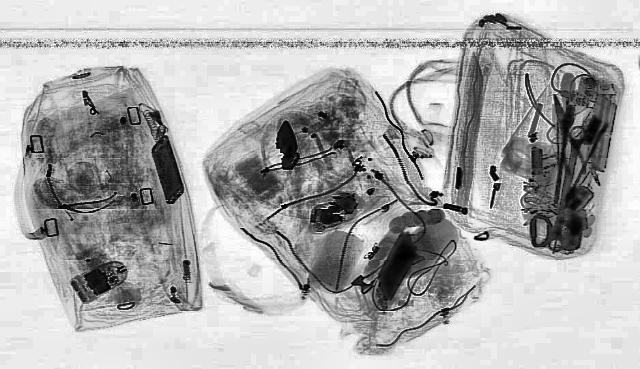Wrench: (542, 124, 590, 254)
